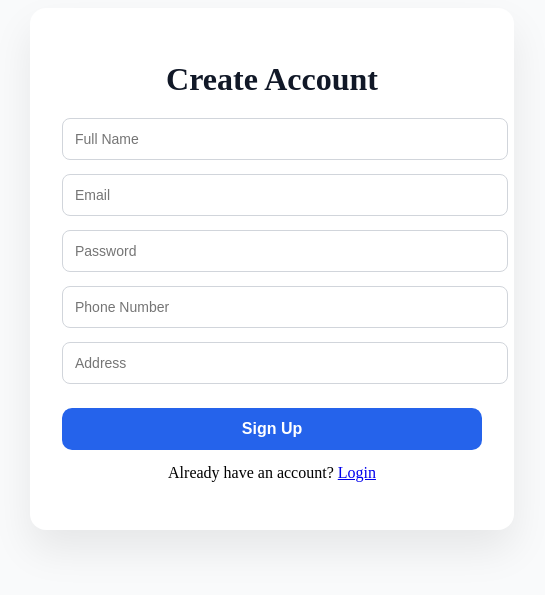
Test case: Signup Component › shows API errors if signup fails
This screenshot has width=545, height=595.
// Provide valid inputs to bypass local validation
Type "John Doe" into the field with placeholder "Full Name".
click(285, 139); type("John Doe")  # box [62, 118, 508, 160]
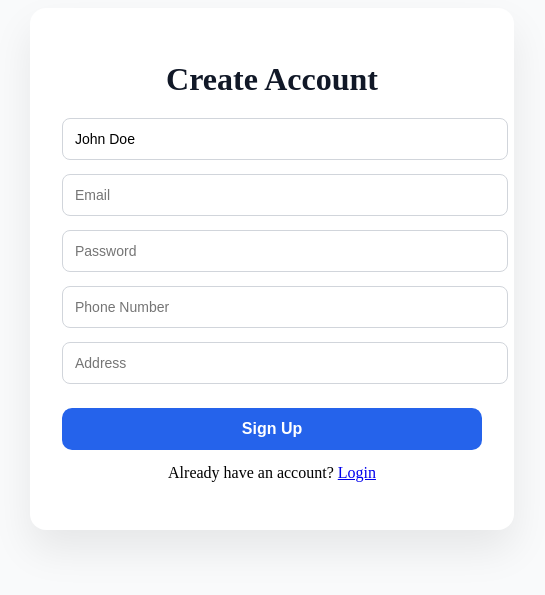
Type "john@example.com" into the field with placeholder "Email".
click(285, 195); type("john@example.com")  # box [62, 174, 508, 216]
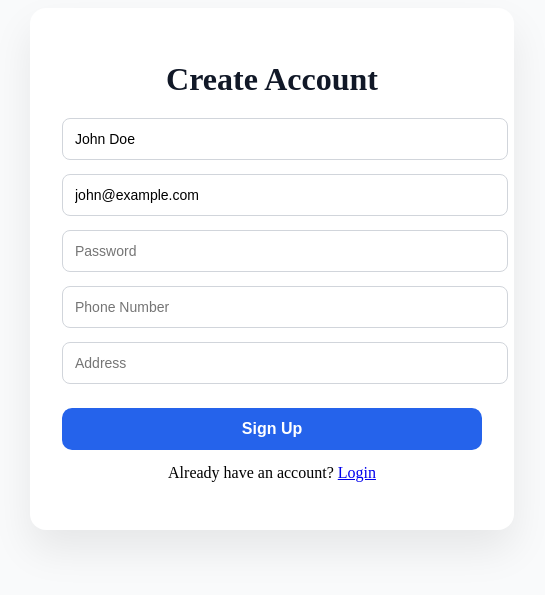
Type "Secret123!" into the password field with placeholder "Password".
click(285, 251); type("Secret123!")  # box [62, 230, 508, 272]
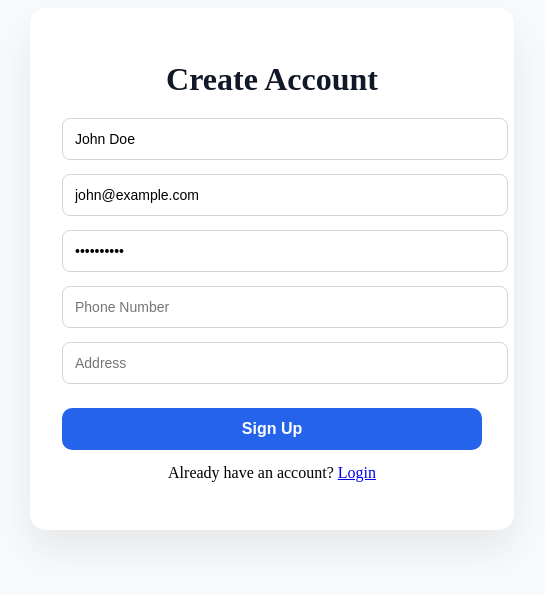
Type "1234567890" into the field with placeholder "Phone Number".
click(285, 307); type("1234567890")  # box [62, 286, 508, 328]
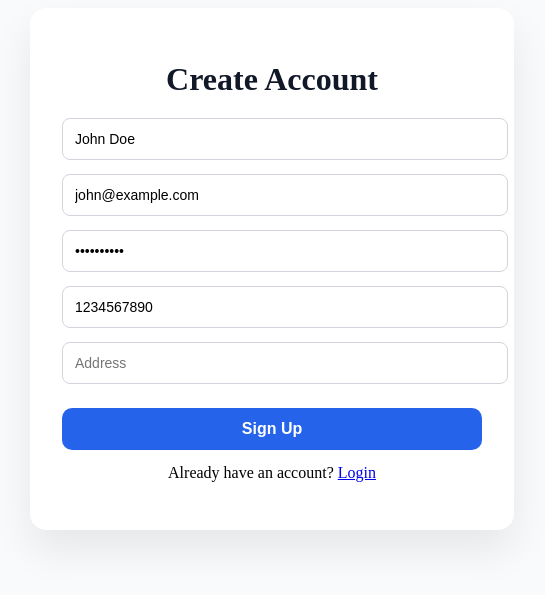
Type "123 Main St" into the field with placeholder "Address".
click(285, 363); type("123 Main St")  # box [62, 342, 508, 384]
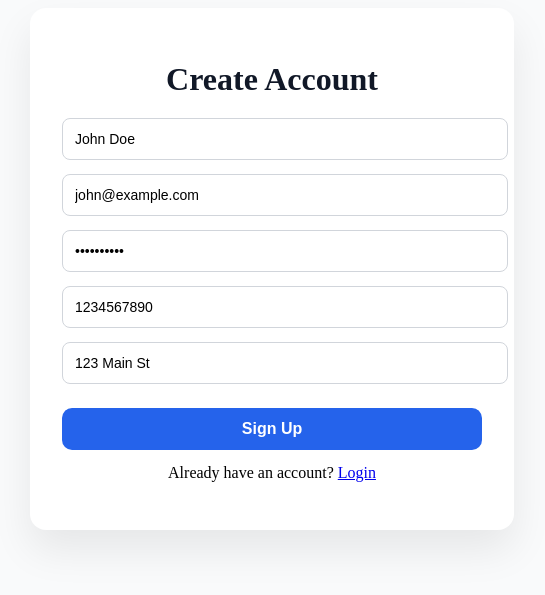
Click the button "Sign Up".
click(272, 429)  # box [62, 408, 482, 450]
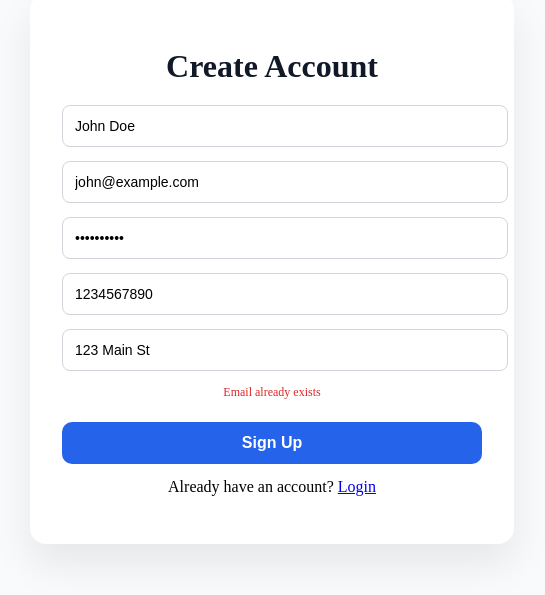
Expected: the text "Email already exists" is shown, [223, 385, 321, 399]
